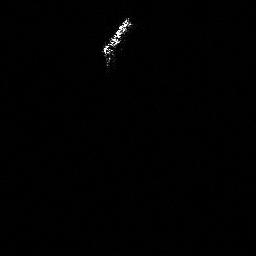ship: (101, 15, 133, 69)
